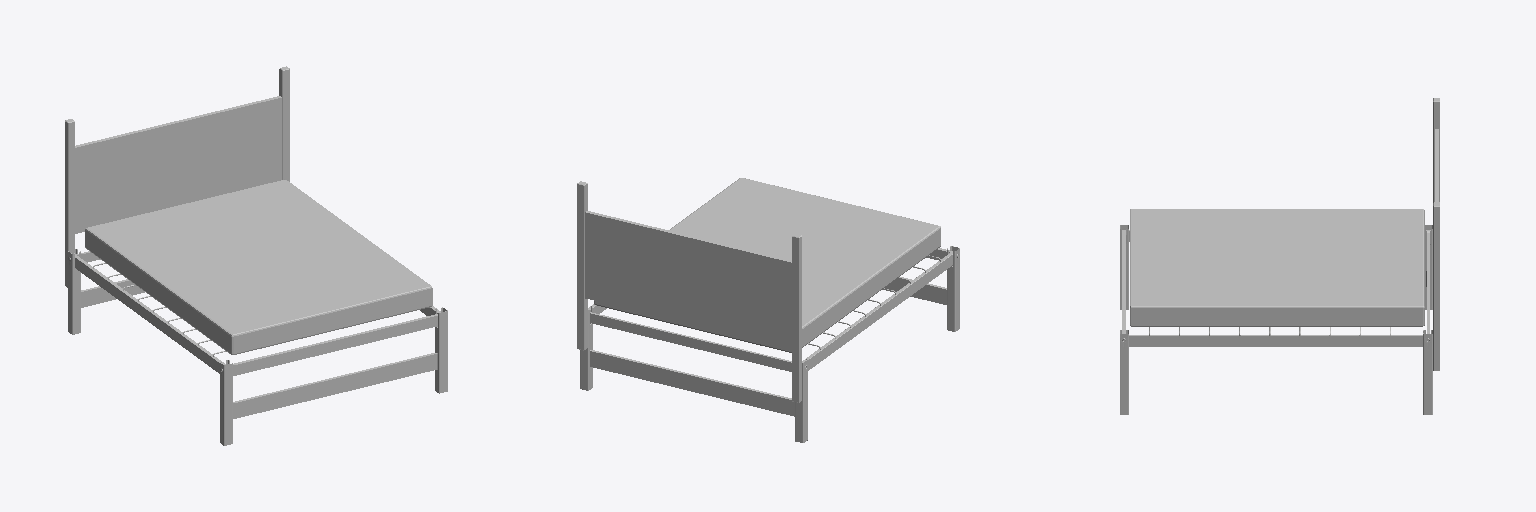
The model's file is bed.obj.
3 views of the same model, side by side, from view 1: azimuth 30°, elevation 25°; view 2: azimuth 150°, elevation 25°; view 3: azimuth 270°, elevation 25° (orthographic).
Visible parts, largest first — view 1: polySurface274; view 2: polySurface274; view 3: polySurface274.
Boxes of the visible parts, x1=… form: polySurface274: x1=65, y1=66, x2=447, y2=445; polySurface274: x1=577, y1=178, x2=959, y2=442; polySurface274: x1=1120, y1=98, x2=1439, y2=414.
Size of the model in its own units: 11.33 by 10.03 by 14.